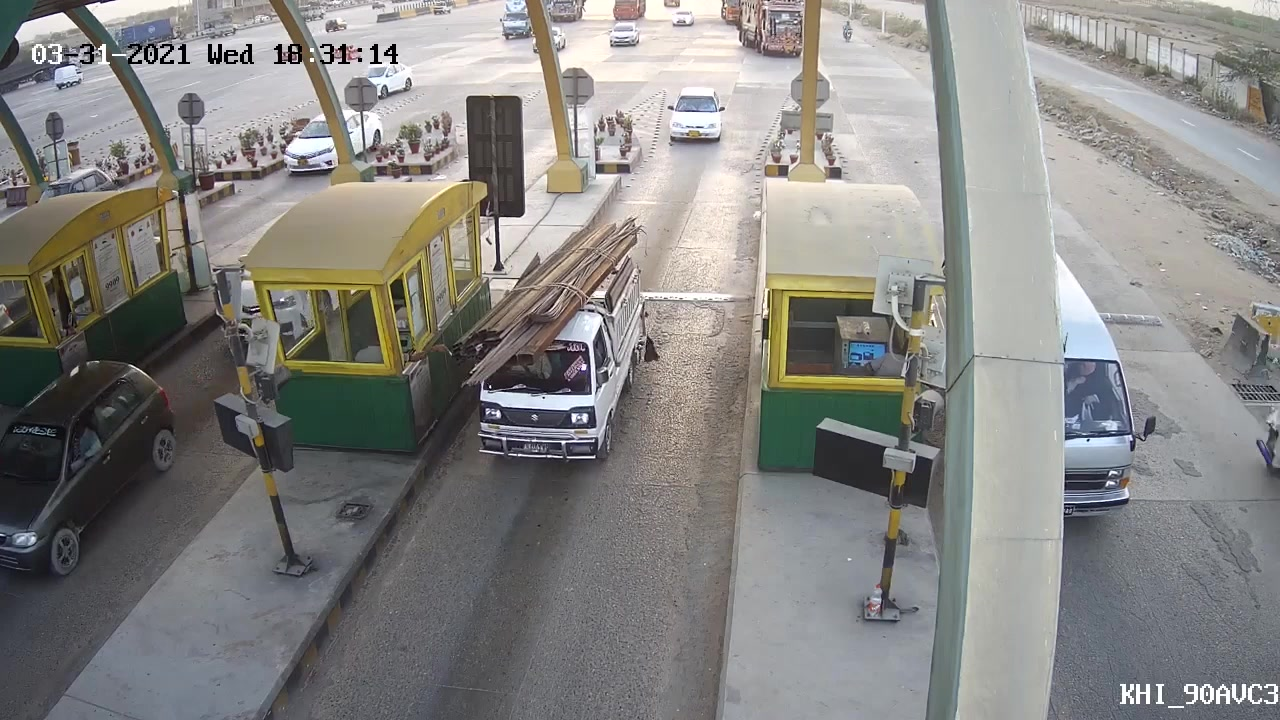F1: (462, 214, 663, 469)
